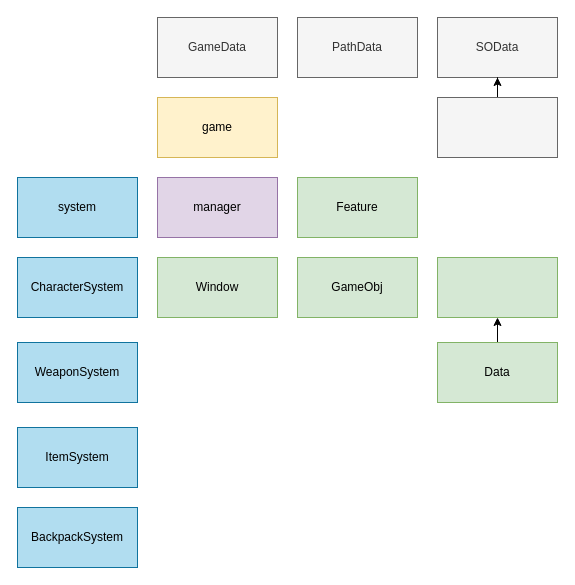
This 575x585 diagram has some shape labels left out. The centre of each missing label's shape, as x and y in pixels:
"Entity" goes at pixel 497 287.
"ScriptableObject" goes at pixel 497 127.
